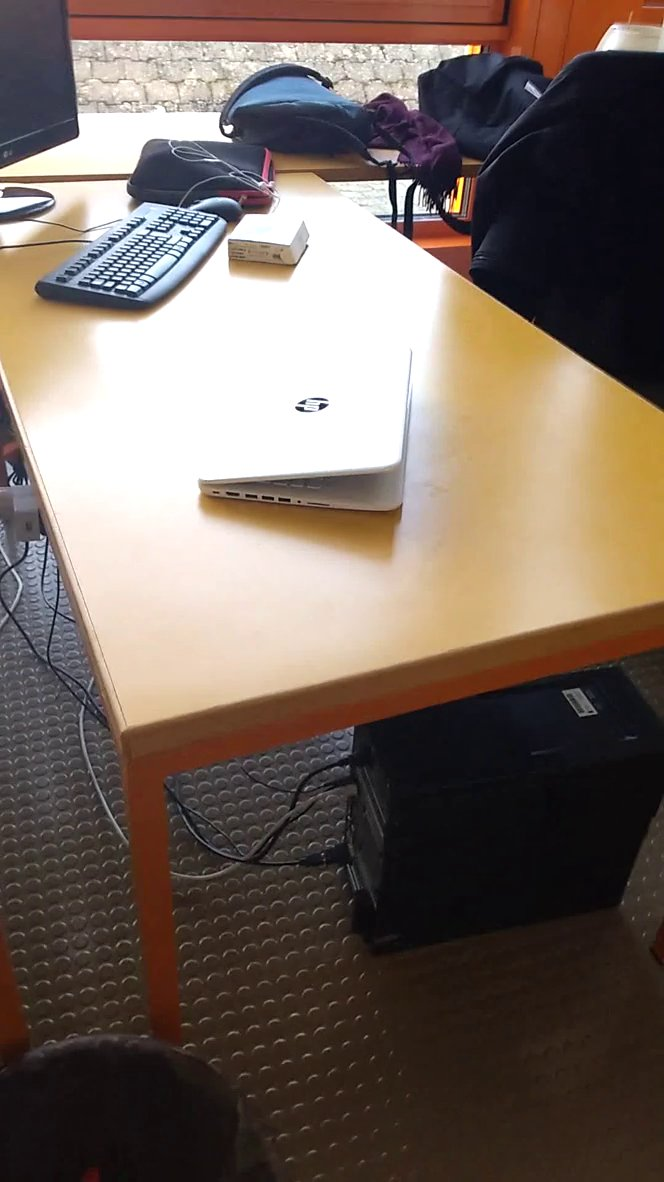bag: (210, 56, 388, 174)
laptop: (176, 329, 434, 545)
